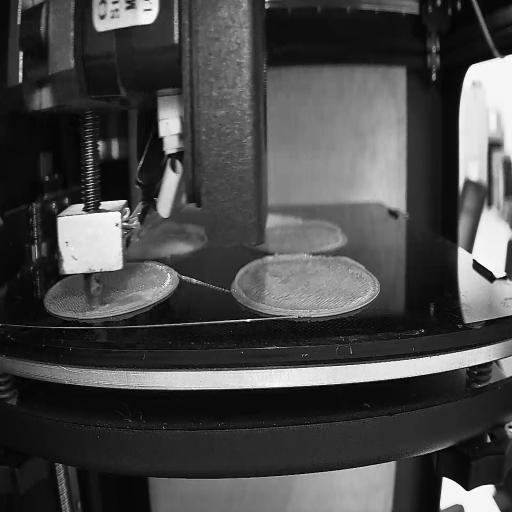over_extrusion: (234, 252, 312, 315), (268, 211, 342, 237), (160, 220, 209, 237), (335, 253, 364, 267)
